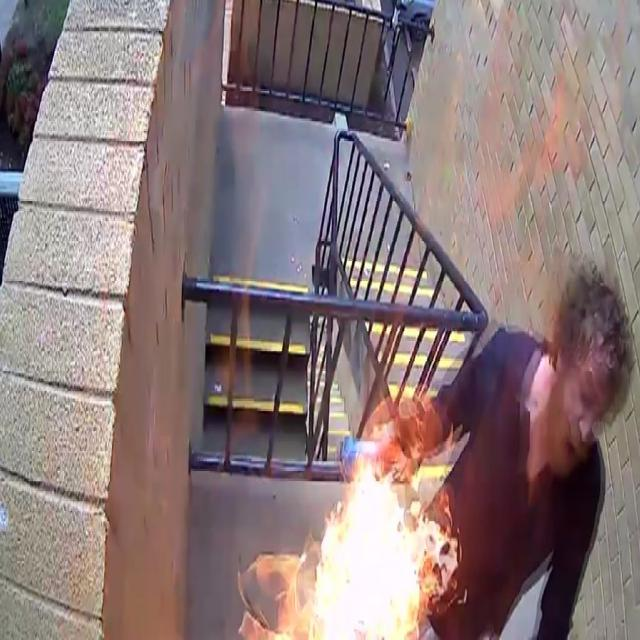fire: (279, 436, 454, 640)
